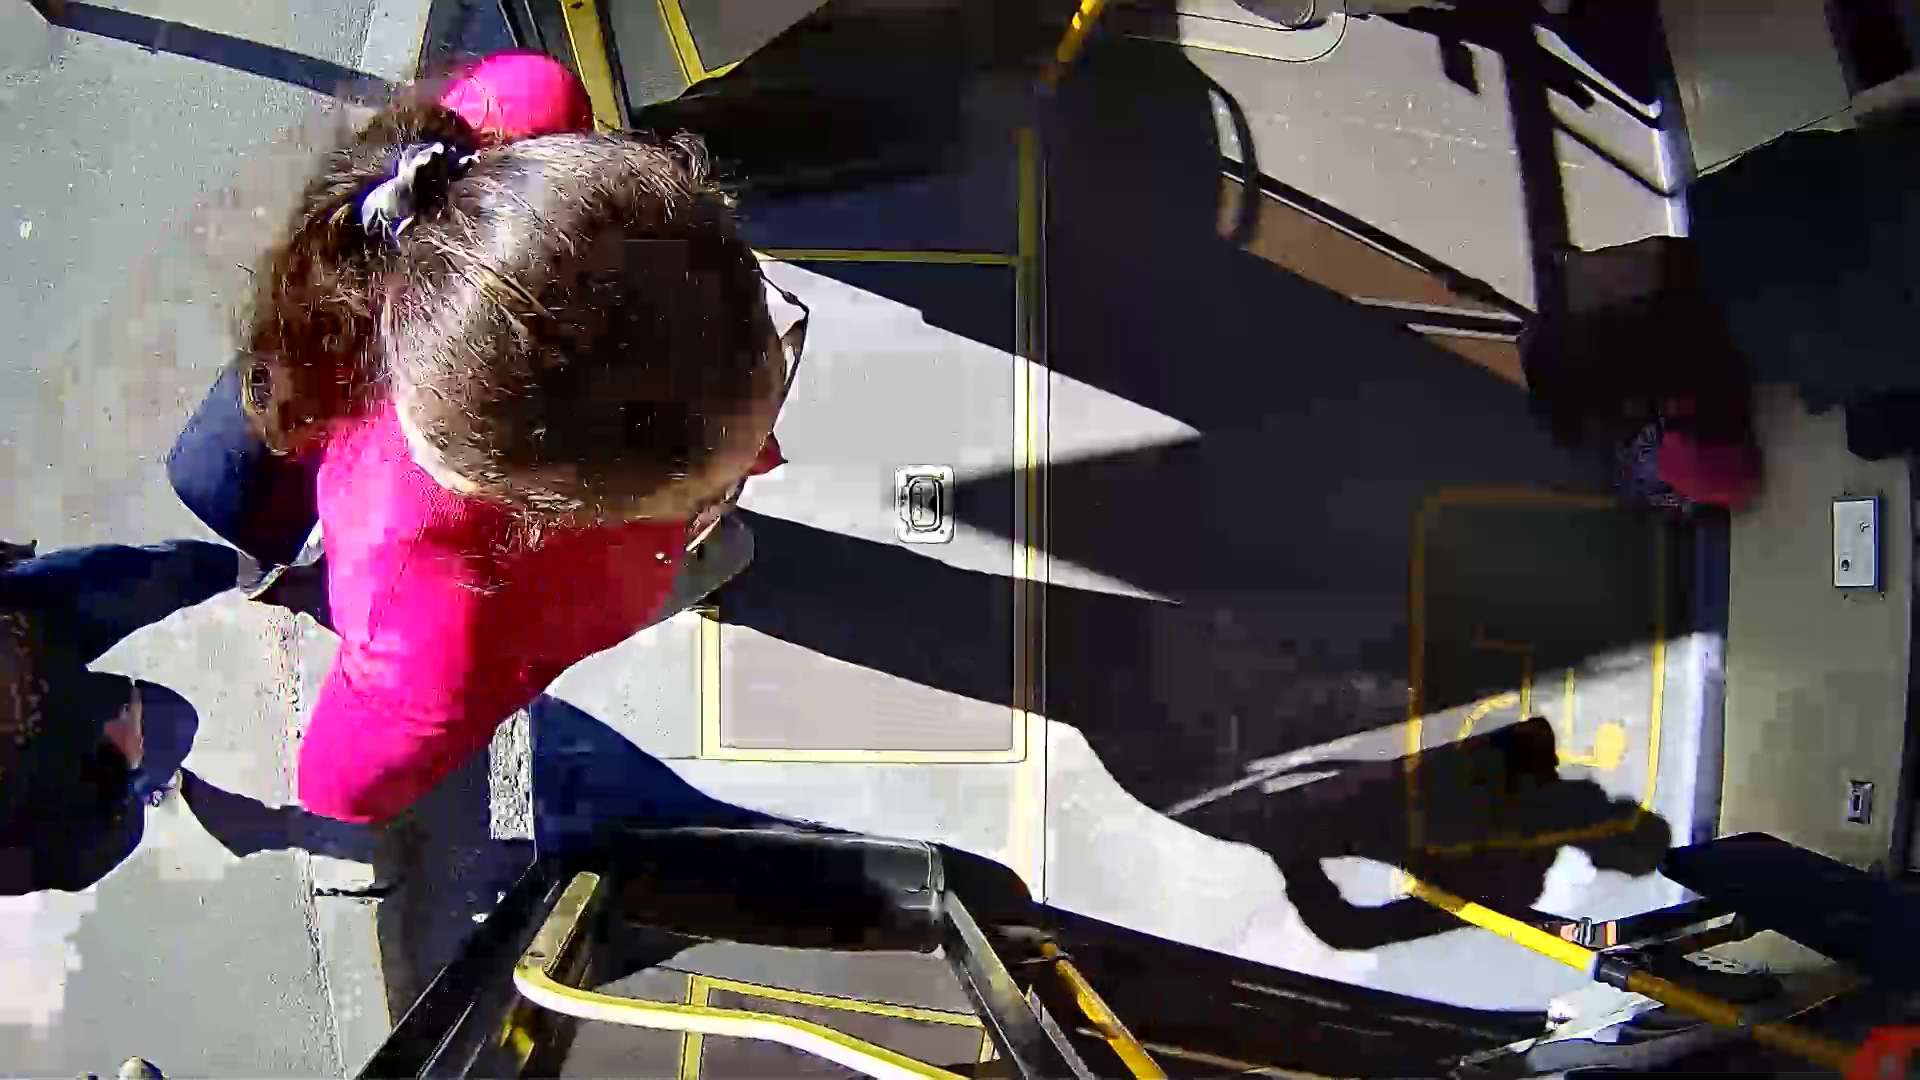person: (215, 105, 939, 727)
